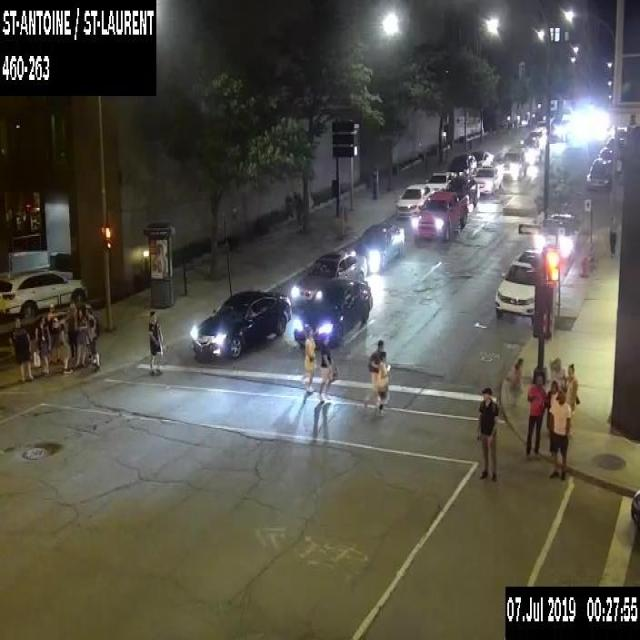pedestrian: (475, 384, 499, 480), (546, 391, 570, 479), (525, 373, 546, 459), (8, 315, 34, 380), (362, 338, 383, 410), (318, 334, 339, 404), (545, 379, 564, 456), (563, 362, 579, 439), (32, 315, 52, 375), (147, 307, 164, 373), (375, 350, 391, 414), (85, 307, 100, 369), (303, 322, 316, 392), (57, 315, 72, 373), (508, 356, 524, 406), (74, 308, 87, 366), (548, 356, 564, 390), (608, 212, 618, 253)
vehicle: (189, 288, 291, 358), (293, 276, 372, 348), (289, 248, 367, 313), (0, 268, 86, 316), (494, 246, 544, 320), (353, 222, 404, 272), (417, 191, 467, 239), (535, 211, 579, 256), (394, 182, 436, 219), (443, 175, 479, 209), (473, 163, 502, 193), (447, 152, 476, 181), (586, 156, 610, 190), (500, 149, 526, 180), (424, 170, 453, 193), (597, 146, 618, 170), (524, 127, 546, 149), (602, 137, 624, 159), (628, 487, 639, 529), (549, 117, 567, 141), (469, 149, 494, 166), (613, 127, 627, 146), (534, 119, 546, 128)
